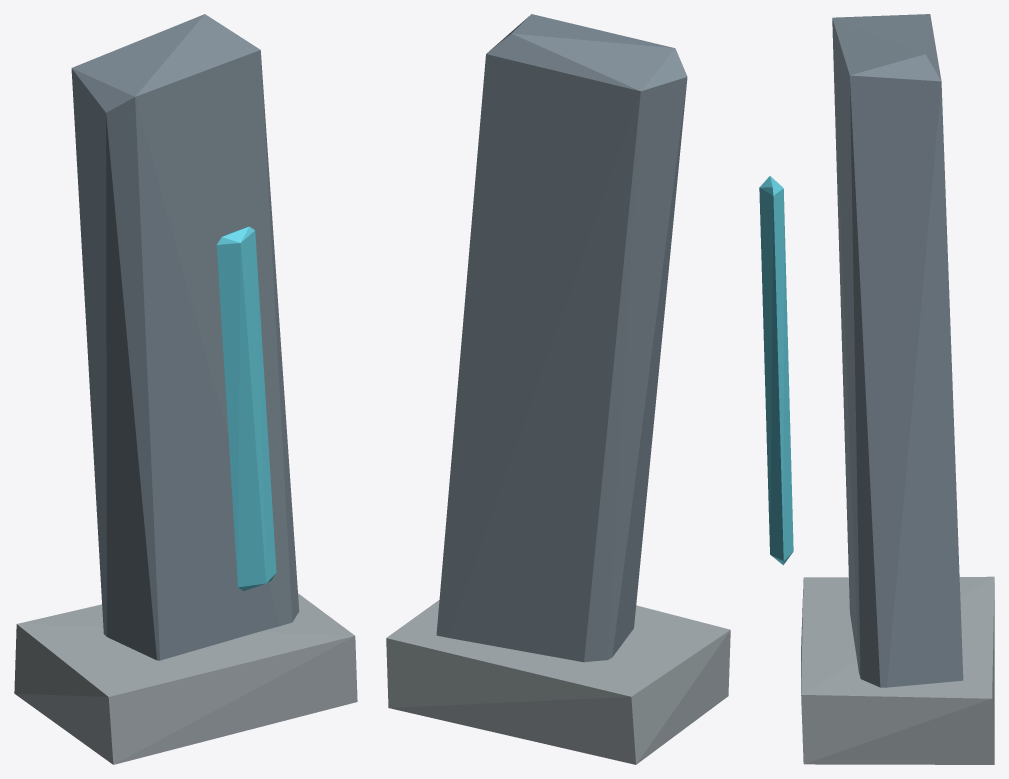
The model's file is Landmark_04_LOD1.fbx.
The picture shows the model from 3 angles, left to right: view 1: azimuth 30°, elevation 25°; view 2: azimuth 150°, elevation 25°; view 3: azimuth 270°, elevation 25°; orthographic projection.
Parts seen in each view (by area): view 1: Landmark_04_LOD1; view 2: Landmark_04_LOD1; view 3: Landmark_04_LOD1.
Part boxes in pixels (x1=…): Landmark_04_LOD1: x1=14, y1=14, x2=357, y2=764; Landmark_04_LOD1: x1=386, y1=14, x2=730, y2=764; Landmark_04_LOD1: x1=759, y1=14, x2=994, y2=764.
Bounding box in the file's own units: 171 × 446 × 140.
